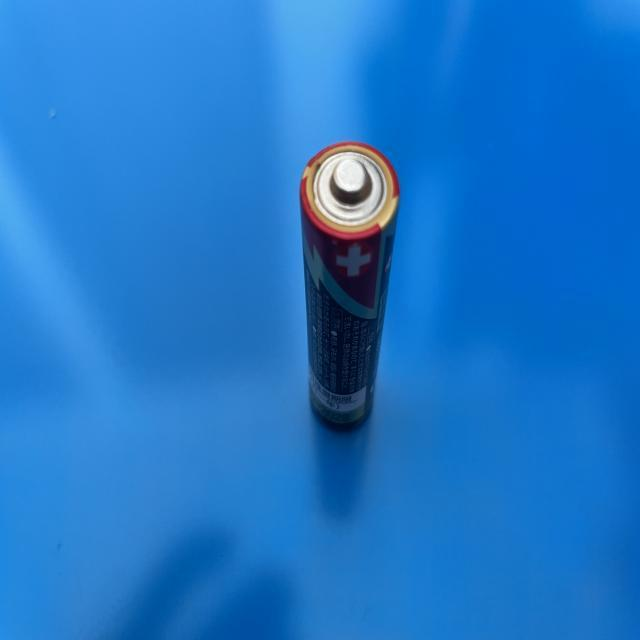AAA: (296, 138, 402, 434)
